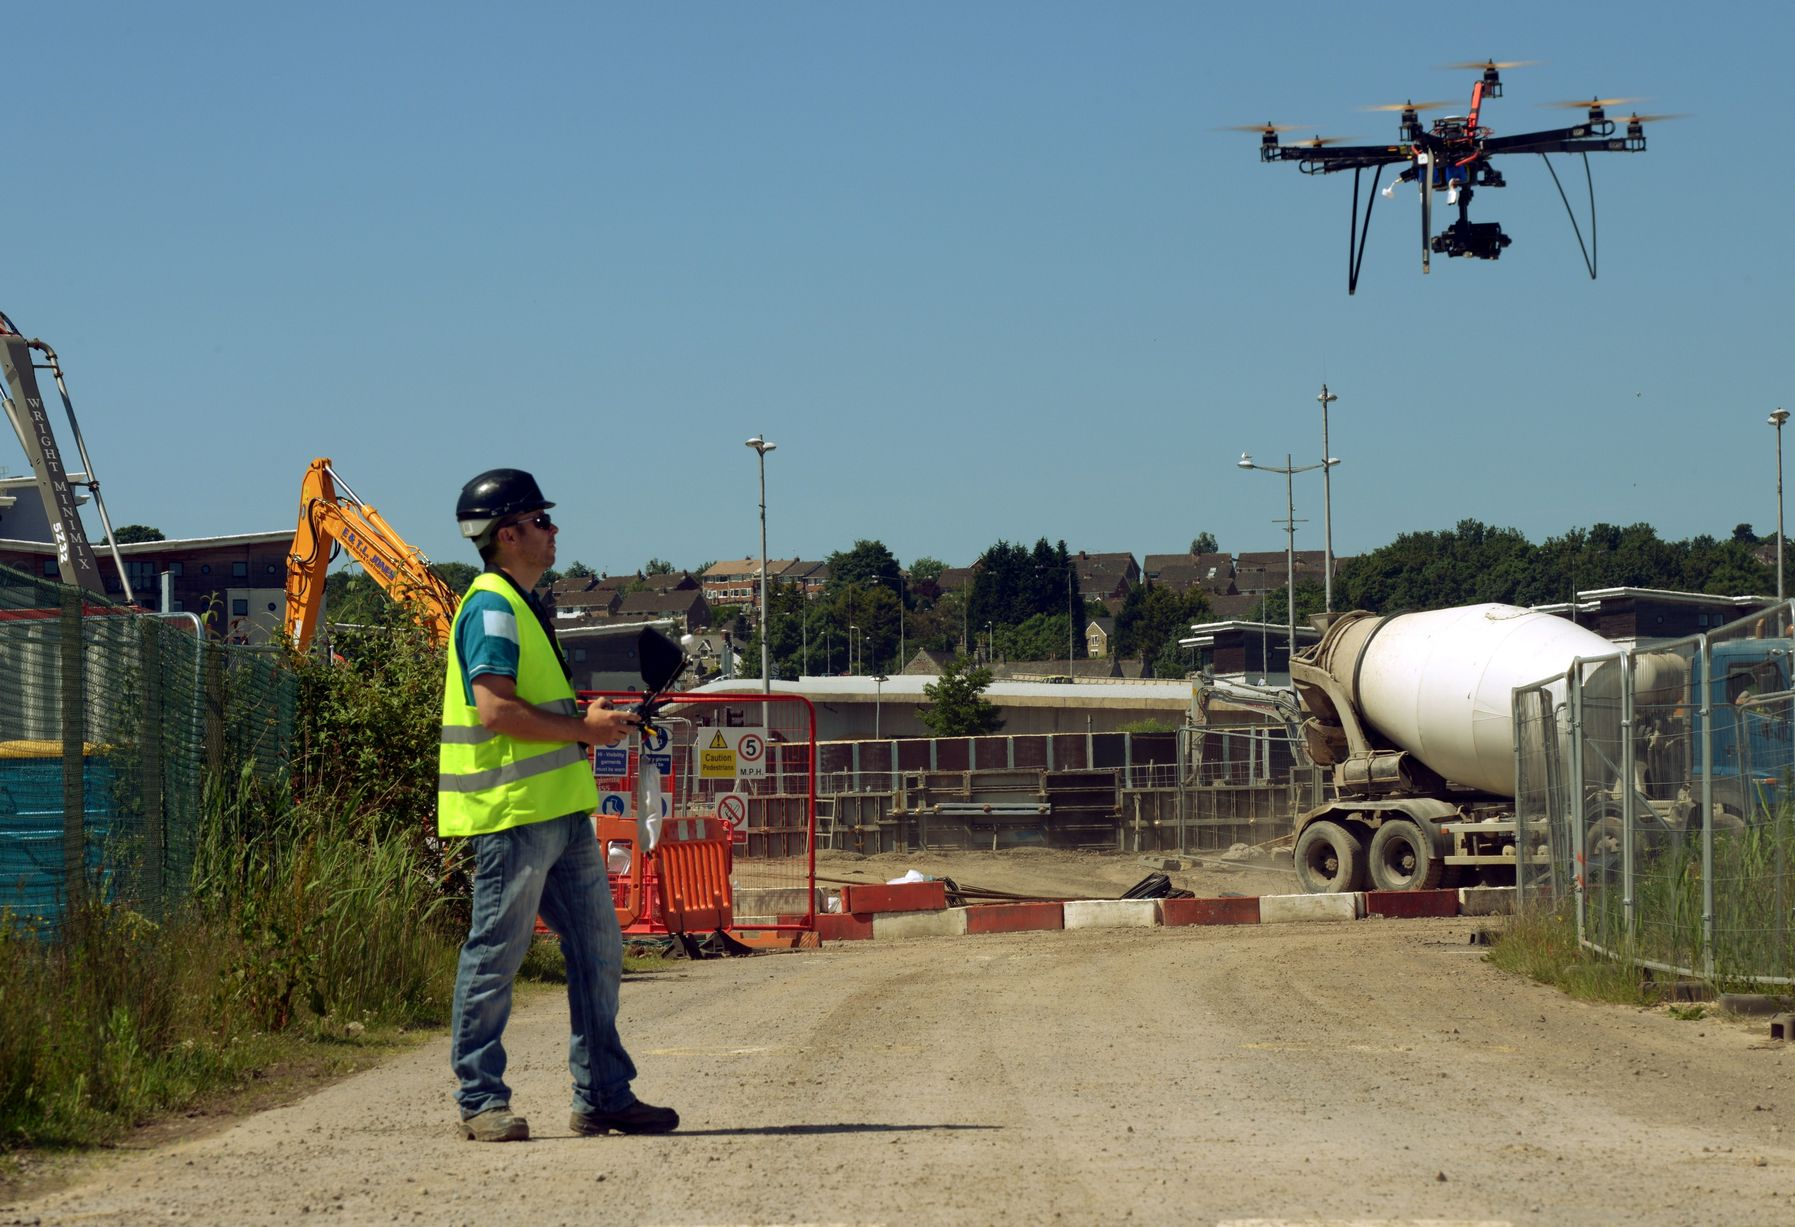drone: (1206, 51, 1702, 300)
person: (433, 463, 693, 1147)
